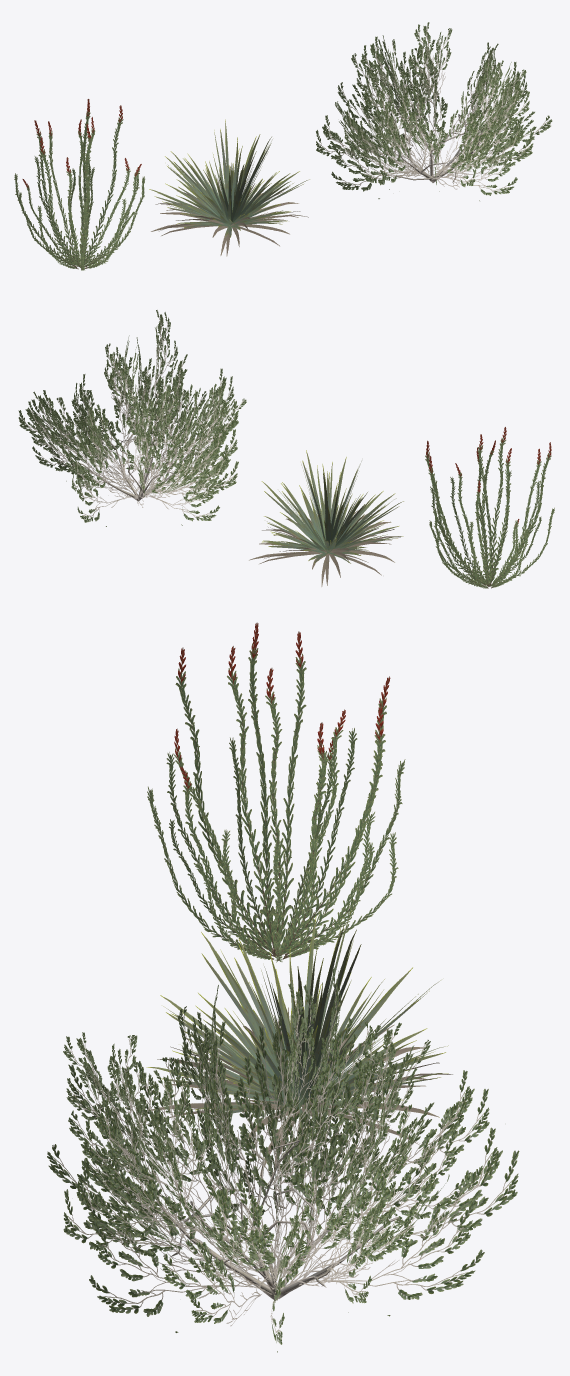
Rendered from shrubs.glb.
The picture shows the model from 3 angles, top to bottom: view 1: azimuth 30°, elevation 25°; view 2: azimuth 150°, elevation 25°; view 3: azimuth 270°, elevation 25°; orthographic projection. The views are drawn at different scales.
Parts seen in each view (by area): view 1: creosote branch 02_7, yacca leaf 01_3, ocotillo branch 01_5; view 2: creosote branch 02_7, yacca leaf 01_3, ocotillo branch 01_5; view 3: creosote branch 02_7, ocotillo branch 01_5, yacca leaf 01_3.
Part boxes in pixels (box(x1,y1,x2,y2)): creosote branch 02_7: box(316, 22, 552, 200); yacca leaf 01_3: box(149, 119, 309, 256); ocotillo branch 01_5: box(14, 99, 145, 270); creosote branch 02_7: box(18, 310, 246, 526); yacca leaf 01_3: box(249, 450, 403, 586); ocotillo branch 01_5: box(425, 427, 554, 588); creosote branch 02_7: box(47, 968, 519, 1352); ocotillo branch 01_5: box(147, 622, 405, 962); yacca leaf 01_3: box(146, 910, 452, 1176).
Size of the model in its own units: 3.47 by 1.17 by 1.44.
Materials: 6 (6 with a texture image).
